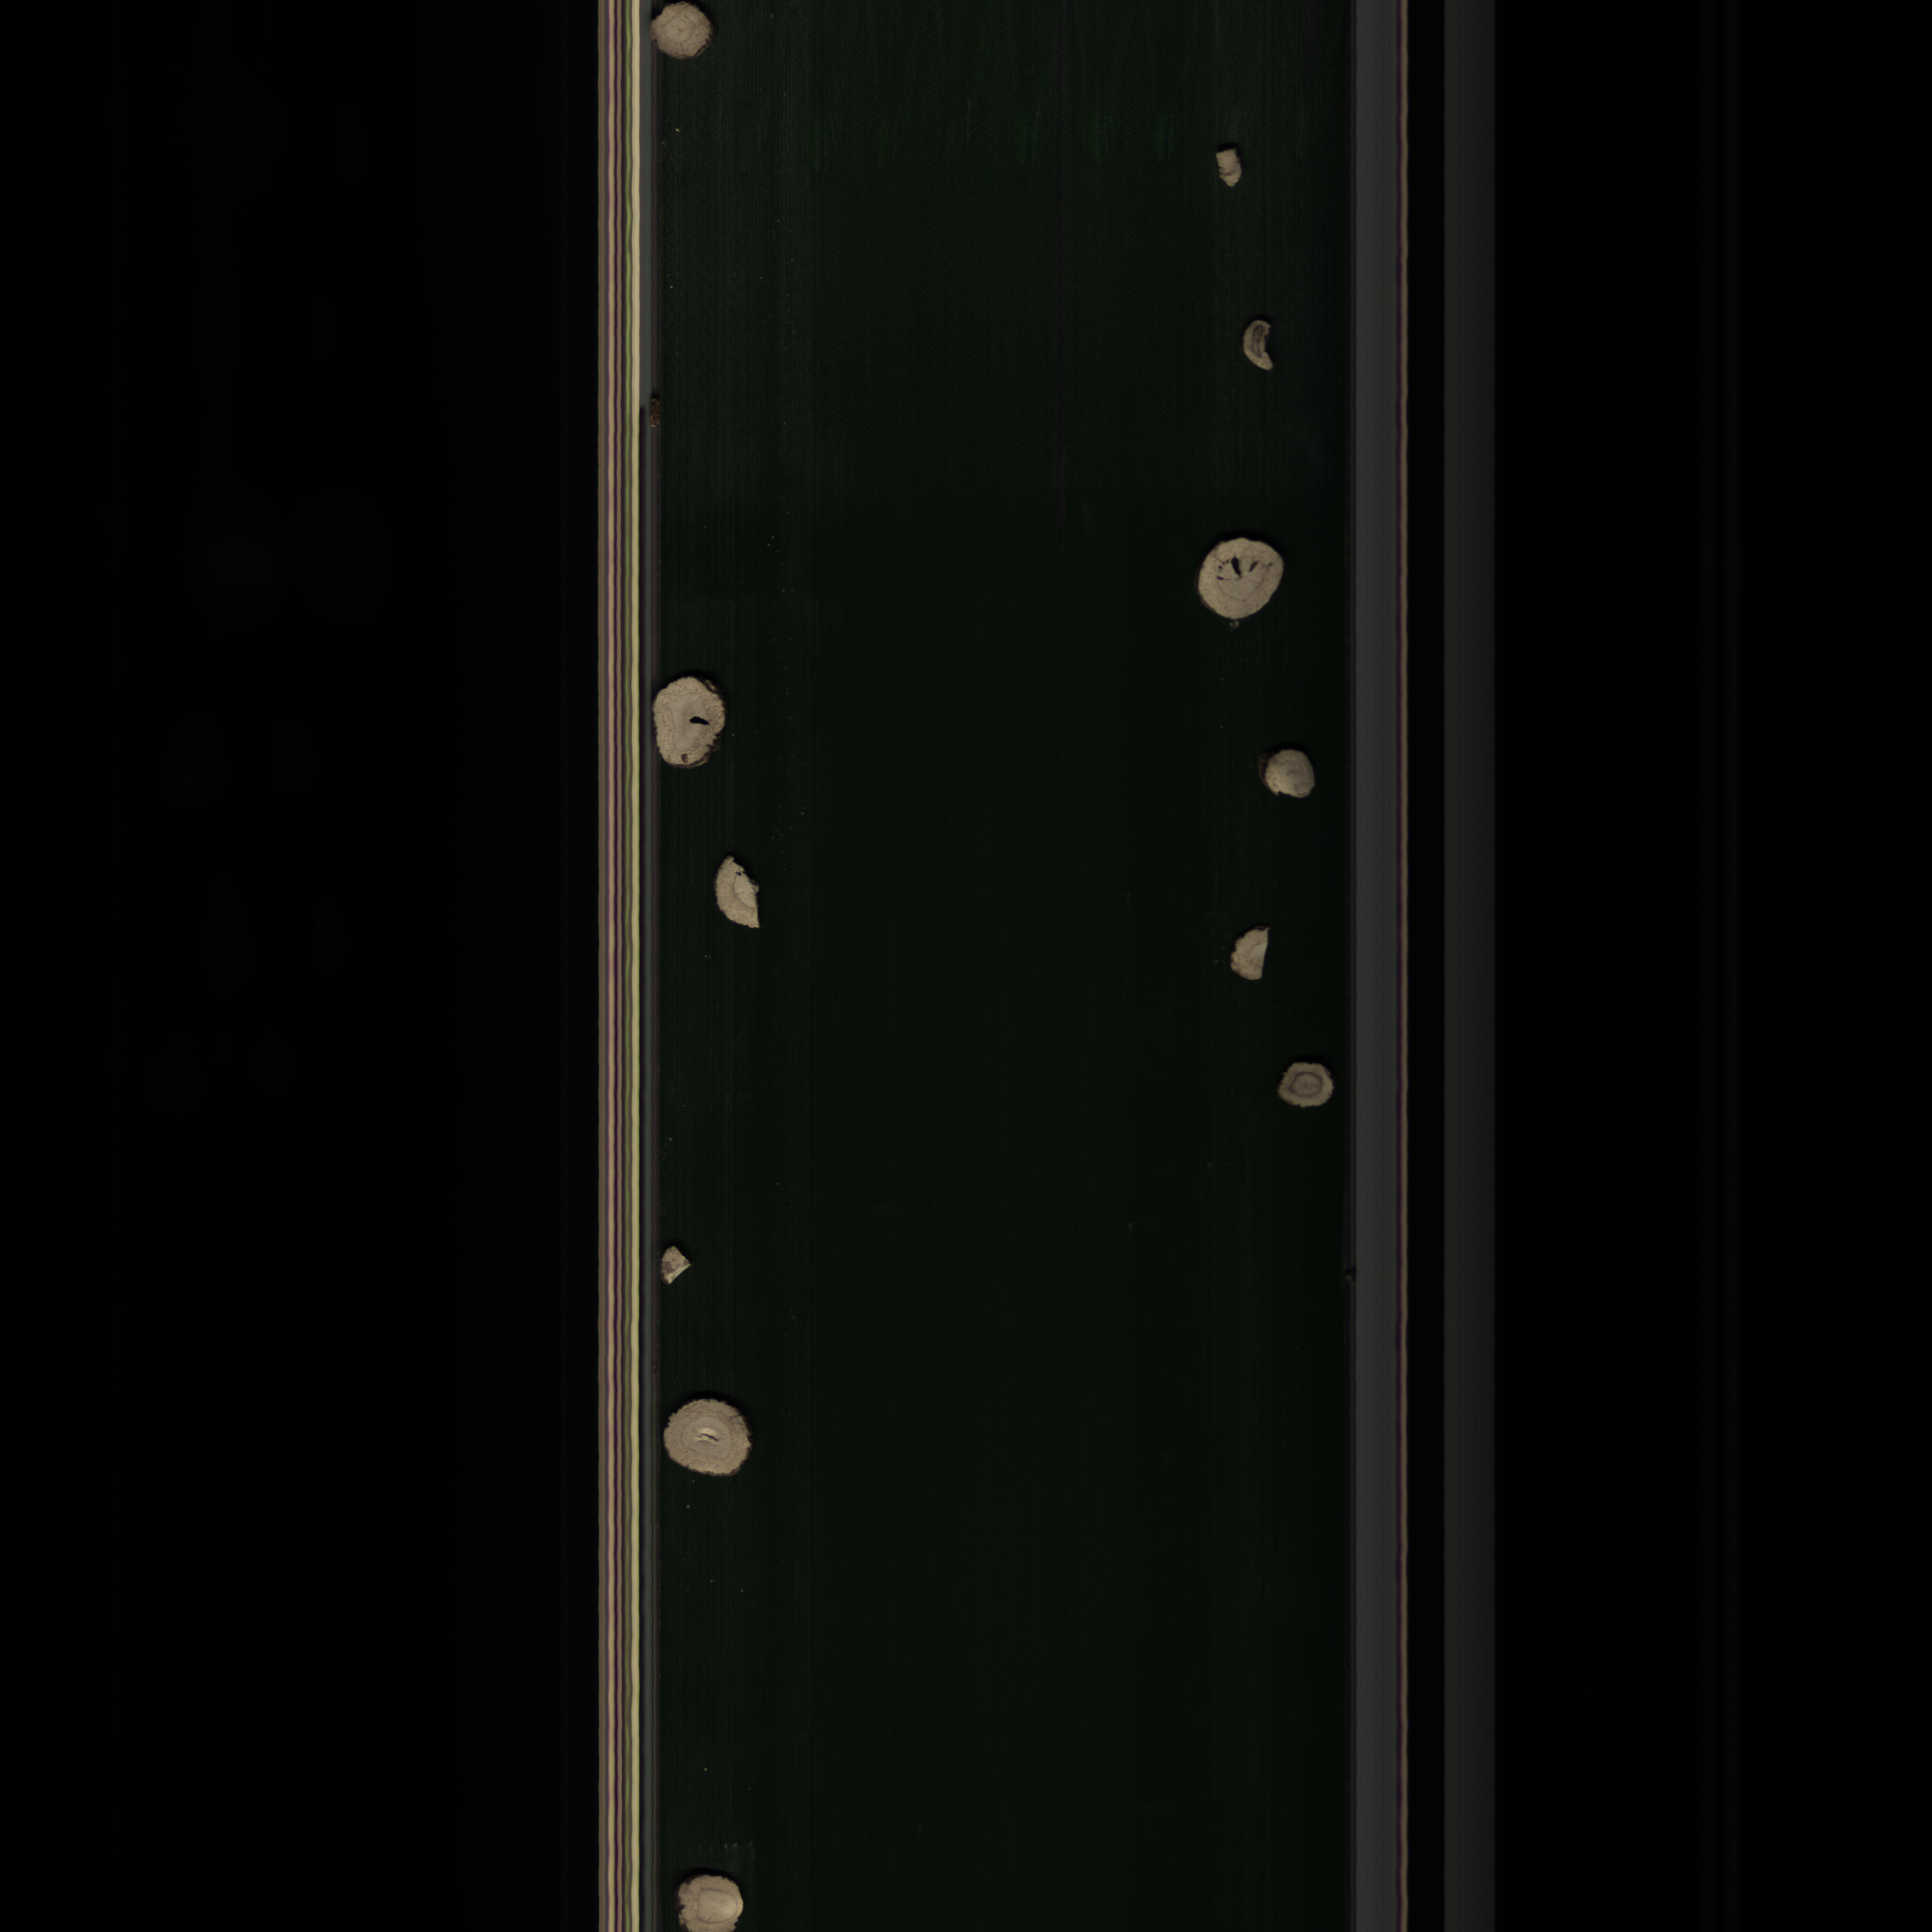bark: (1224, 310, 1281, 380), (1208, 138, 1251, 200)
debris: (663, 1872, 752, 1932), (1226, 924, 1270, 989), (653, 1237, 695, 1290)
hole: (1192, 527, 1288, 635), (648, 672, 729, 773)
moldy: (1269, 1053, 1341, 1123)
